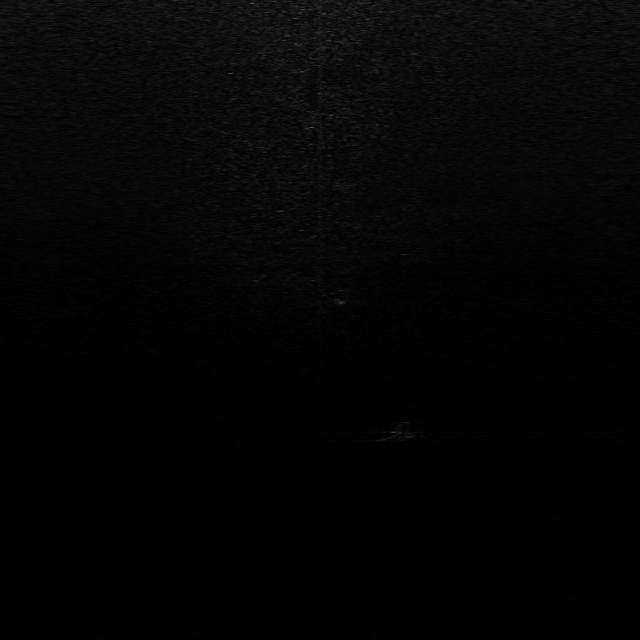ball: (387, 419, 417, 441)
circle cage: (330, 286, 354, 306)
